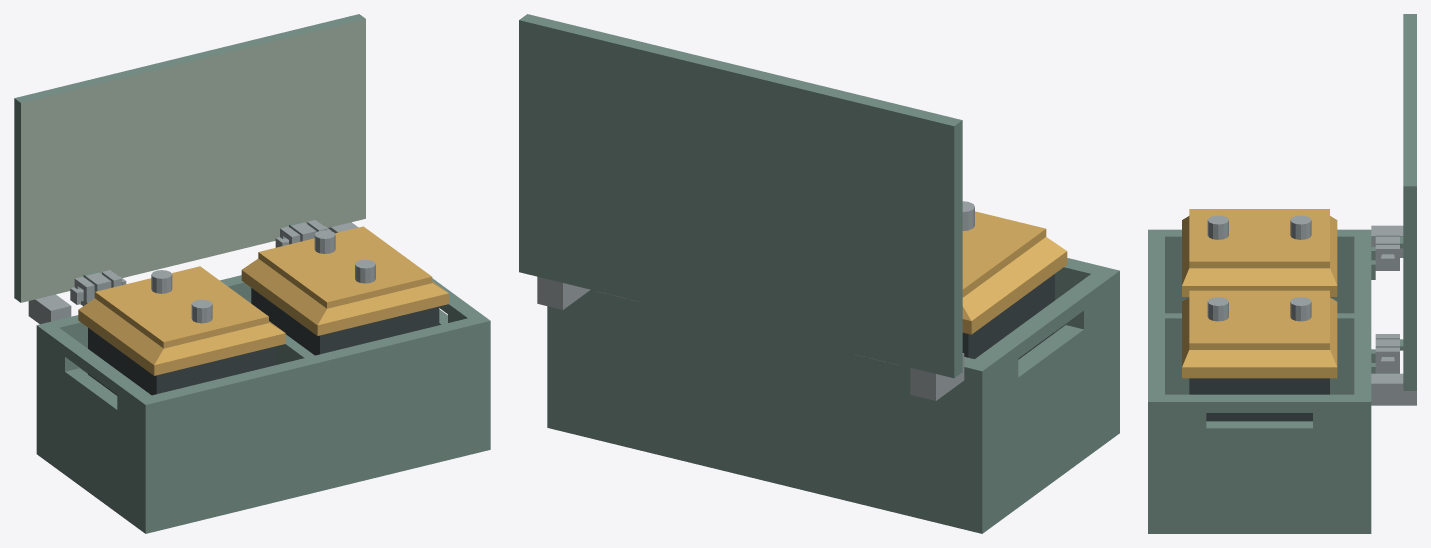
The picture shows the model from 3 angles, left to right: view 1: azimuth 30°, elevation 25°; view 2: azimuth 150°, elevation 25°; view 3: azimuth 270°, elevation 25°; orthographic projection. The views are drawn at different scales.
Parts seen in each view (by area): view 1: Lid_FixedUprightThickPanel, TwinBay_ContinuousBottomWallsDivider, Battery_0_ClosedSteppedShoulder, Battery_1_ClosedSteppedShoulder, FiniteAngleStop_0; view 2: Lid_FixedUprightThickPanel, TwinBay_ContinuousBottomWallsDivider, Battery_0_ClosedSteppedShoulder, FiniteAngleStop_0, FiniteAngleStop_1; view 3: TwinBay_ContinuousBottomWallsDivider, Battery_1_ClosedSteppedShoulder, Battery_0_ClosedSteppedShoulder, Lid_FixedUprightThickPanel, FiniteAngleStop_1, Battery_0_FixedPost_1, Battery_1_FixedPost_1, Battery_0_FixedPost_0, Battery_1_FixedPost_0, Hinge_1_RightTrueBoredKnuckle, Hinge_0_RightTrueBoredKnuckle, FiniteAngleStop_0.
Boxes of the visible parts, x1,y1,x2,y2 form: Lid_FixedUprightThickPanel: (14, 14, 365, 302); TwinBay_ContinuousBottomWallsDivider: (36, 275, 490, 533); Battery_0_ClosedSteppedShoulder: (78, 266, 285, 395); Battery_1_ClosedSteppedShoulder: (241, 226, 448, 355); FiniteAngleStop_0: (28, 294, 71, 324); Lid_FixedUprightThickPanel: (519, 14, 962, 378); TwinBay_ContinuousBottomWallsDivider: (547, 258, 1119, 533); Battery_0_ClosedSteppedShoulder: (962, 211, 1067, 359); FiniteAngleStop_0: (910, 353, 964, 400); FiniteAngleStop_1: (537, 276, 590, 309); TwinBay_ContinuousBottomWallsDivider: (1148, 229, 1371, 533); Battery_1_ClosedSteppedShoulder: (1182, 290, 1337, 421); Battery_0_ClosedSteppedShoulder: (1182, 209, 1337, 296); Lid_FixedUprightThickPanel: (1403, 14, 1416, 390); FiniteAngleStop_1: (1371, 373, 1416, 405); Battery_0_FixedPost_1: (1290, 215, 1311, 239); Battery_1_FixedPost_1: (1290, 297, 1311, 321); Battery_0_FixedPost_0: (1207, 215, 1228, 239); Battery_1_FixedPost_0: (1207, 297, 1228, 321); Hinge_1_RightTrueBoredKnuckle: (1375, 347, 1399, 373); Hinge_0_RightTrueBoredKnuckle: (1375, 245, 1399, 270); FiniteAngleStop_0: (1371, 225, 1403, 257).
Bounding box in the file's own units: 0.84 × 0.79 × 0.554.
